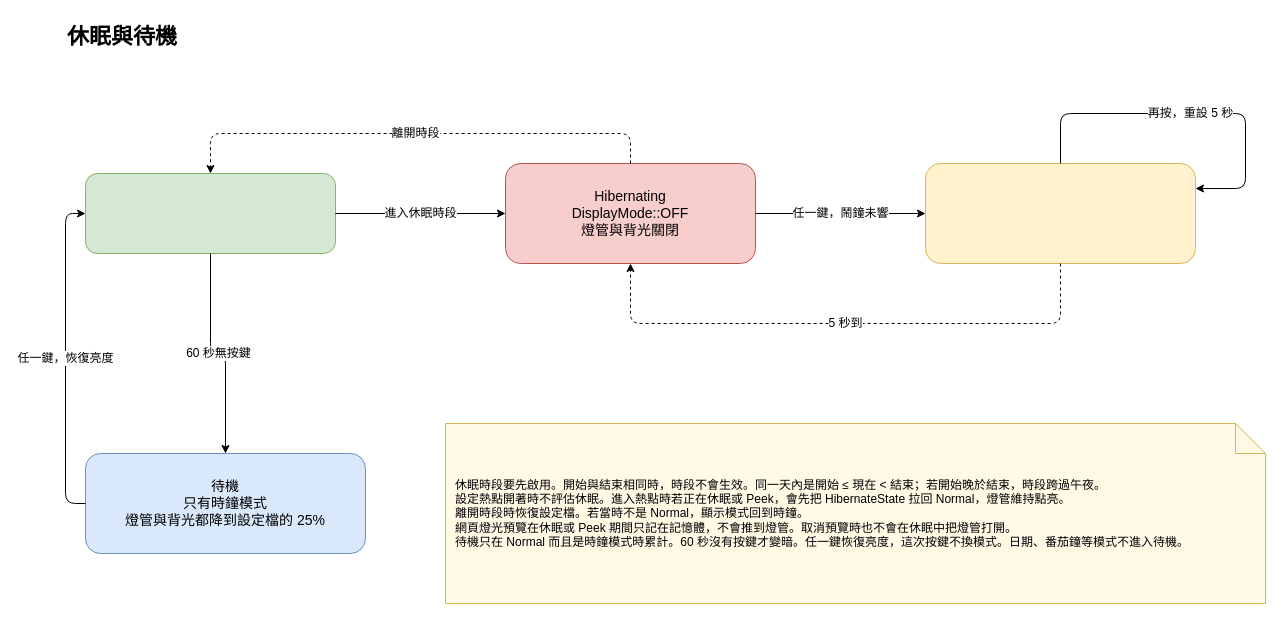
This 1283x621 diagram has some shape labels left out. The centre of each missing label's shape, as x and y in pixels:
HibernateState::Normal 依設定檔顯示: the point at 210,213
Peek 時鐘模式 燈管亮度 50，背光關，5 秒: the point at 1060,213
